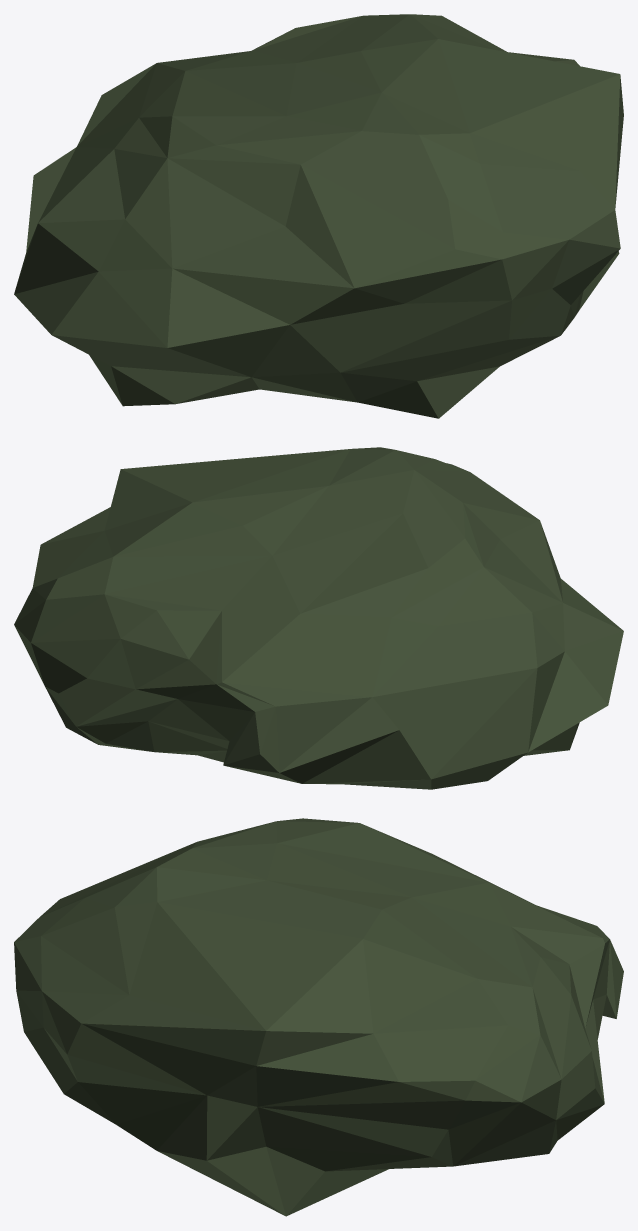
Rendered from S0.stone6.glb.
The picture shows the model from 3 angles, top to bottom: view 1: azimuth 30°, elevation 25°; view 2: azimuth 150°, elevation 25°; view 3: azimuth 270°, elevation 25°; orthographic projection. The views are drawn at different scales.
Visible parts, largest first — view 1: Landscape.013; view 2: Landscape.013; view 3: Landscape.013.
Boxes of the visible parts, left/top/right/bottom form: Landscape.013: left=14, top=14, right=623, bottom=418; Landscape.013: left=14, top=447, right=623, bottom=789; Landscape.013: left=14, top=818, right=623, bottom=1216.
Bounding box in the file's own units: 2.77 × 1.23 × 2.59.
